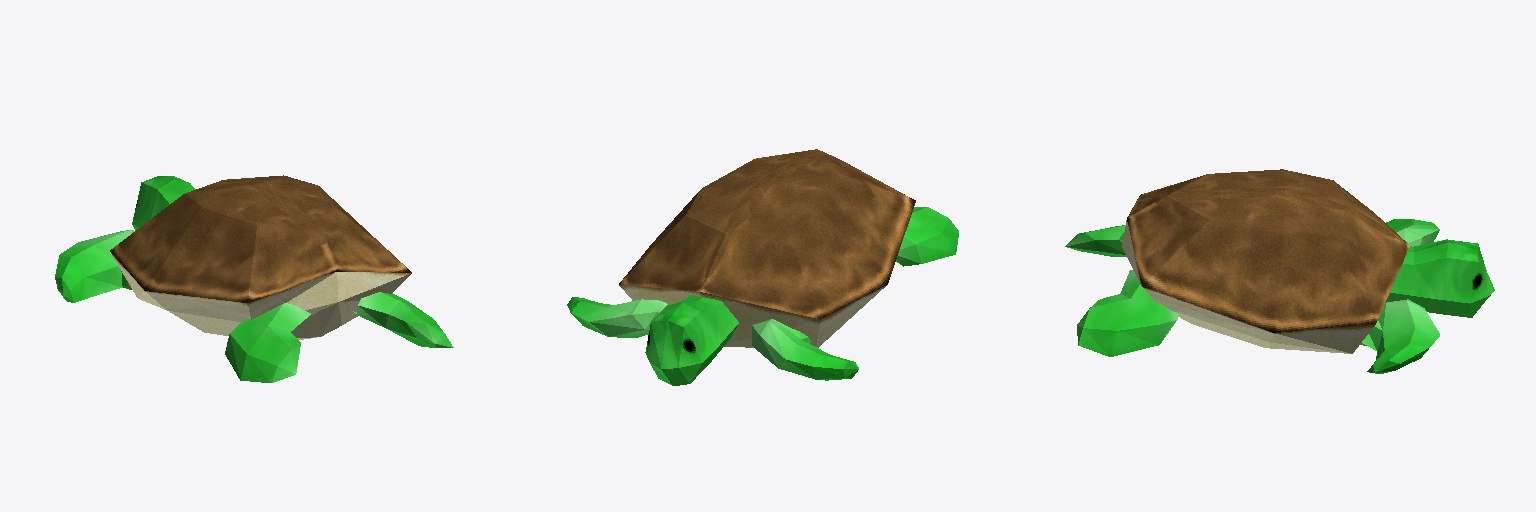
The picture shows the model from 3 angles: view 1: azimuth 30°, elevation 25°; view 2: azimuth 150°, elevation 25°; view 3: azimuth 270°, elevation 25°; orthographic projection.
Visible parts, largest first — view 1: Turtle-Mesh; view 2: Turtle-Mesh; view 3: Turtle-Mesh.
Boxes of the visible parts, x1=… form: Turtle-Mesh: x1=55, y1=175, x2=453, y2=382; Turtle-Mesh: x1=567, y1=149, x2=958, y2=385; Turtle-Mesh: x1=1065, y1=169, x2=1494, y2=373.
Bounding box in the file's own units: 4.46 × 2.05 × 5.85.
Materials: 1 (1 with a texture image).